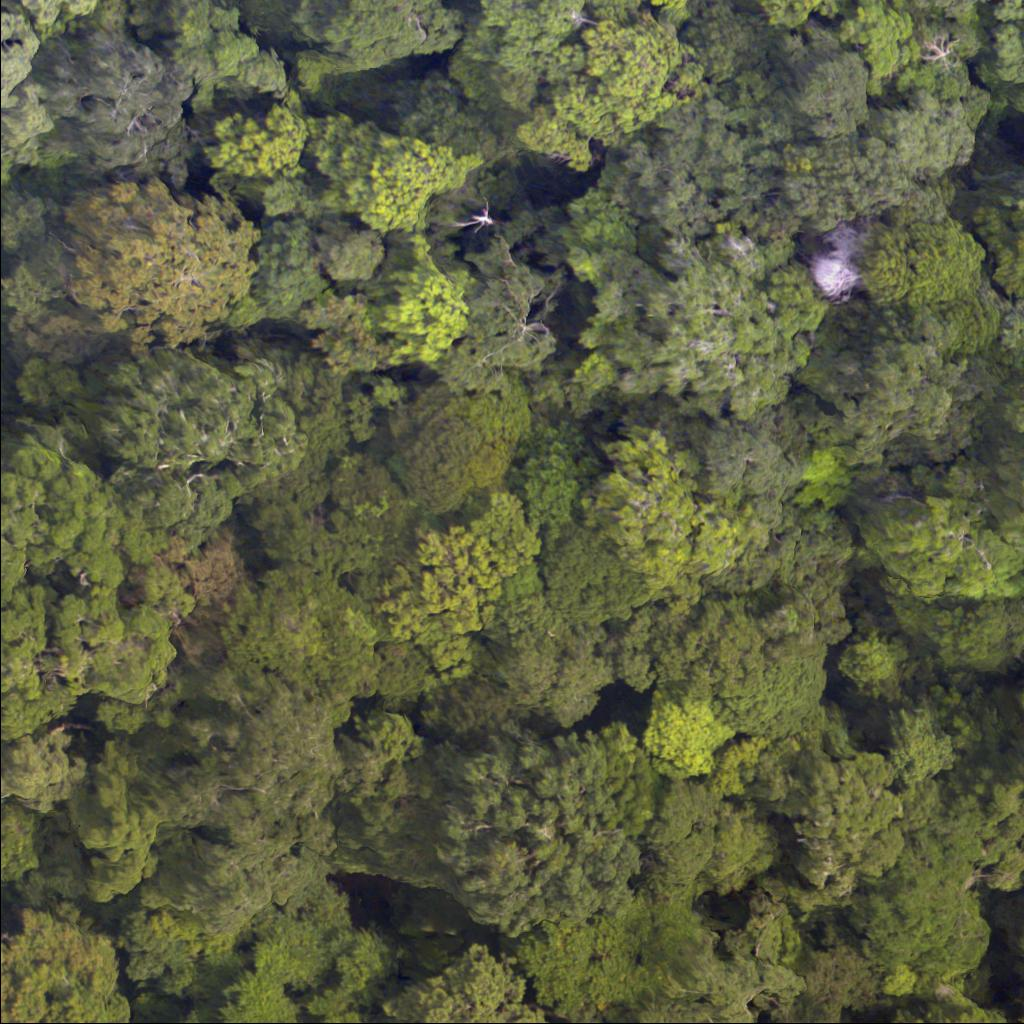crown: (436, 729, 651, 942), (460, 0, 695, 178), (645, 587, 828, 729), (51, 45, 171, 158), (394, 940, 555, 1023), (0, 935, 147, 1023), (288, 0, 453, 71), (0, 8, 63, 159), (643, 688, 739, 785), (788, 48, 873, 145), (308, 215, 387, 290), (919, 15, 978, 101), (749, 0, 852, 40), (867, 995, 982, 1023), (9, 0, 101, 34), (927, 0, 995, 19)
